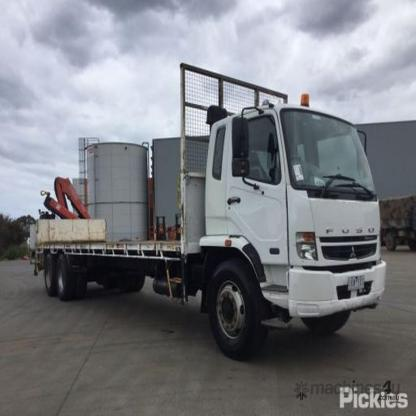truck: (28, 64, 388, 358)
